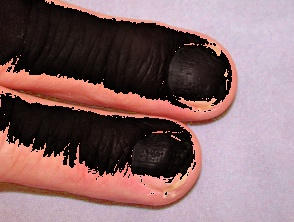Nail_psoriasis: (118, 113, 208, 204), (156, 32, 241, 122)
